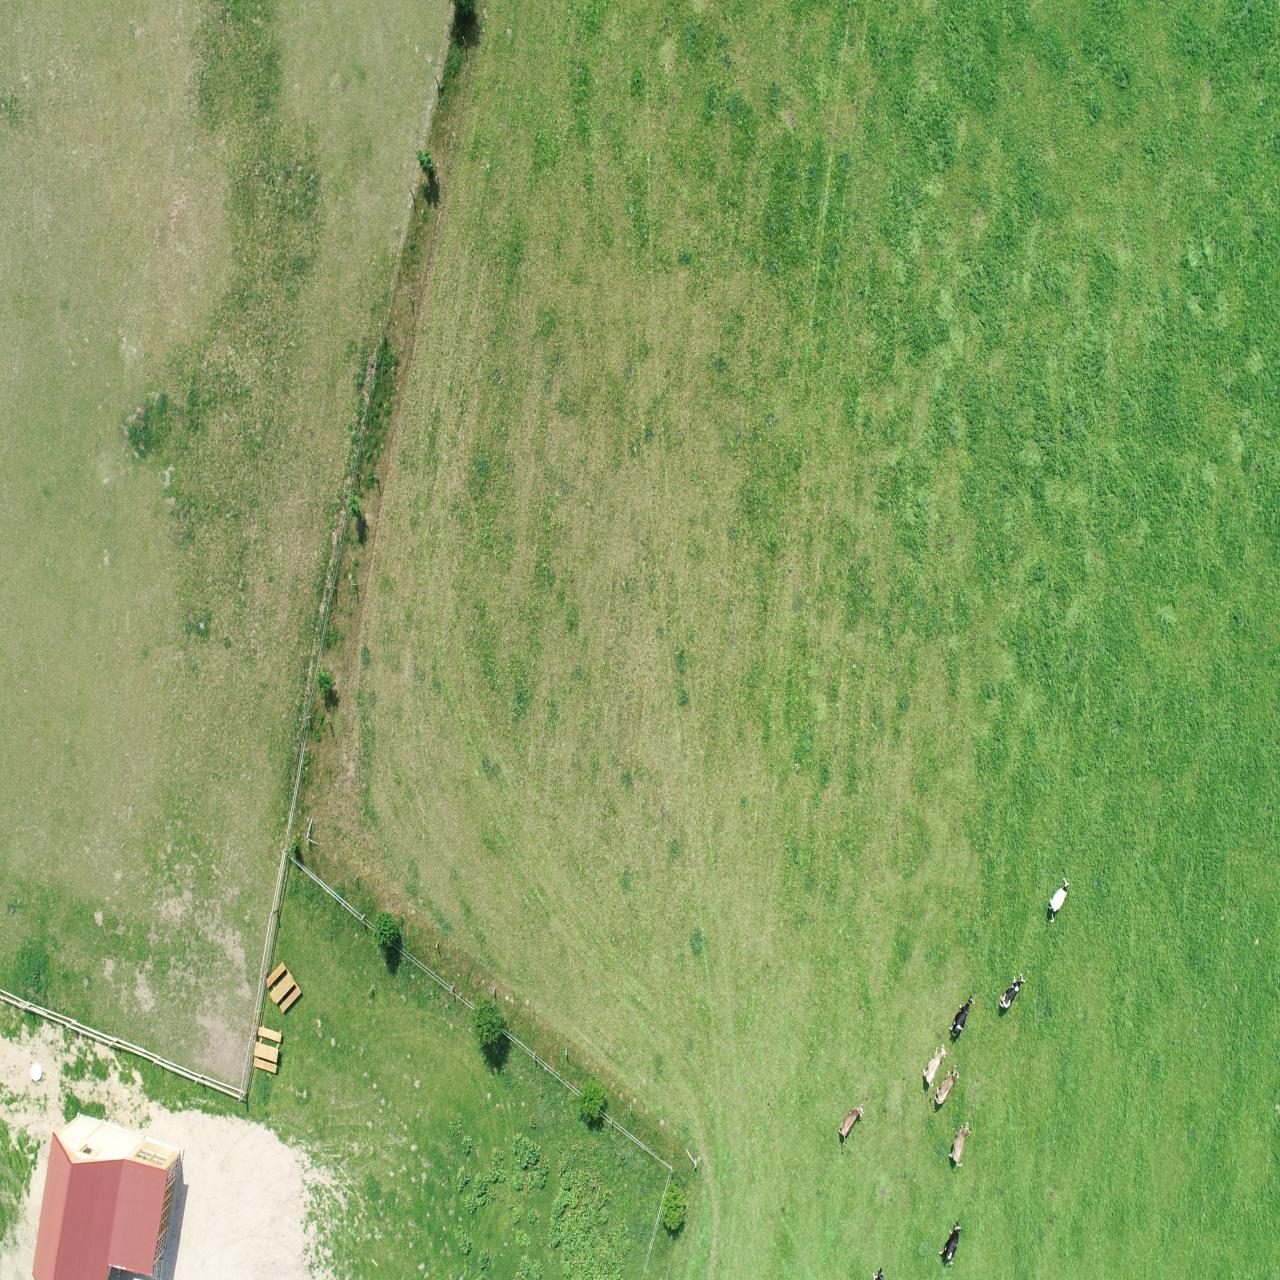cow: (930, 1063, 968, 1105), (937, 1218, 966, 1268), (837, 1102, 867, 1150), (1043, 873, 1071, 925), (996, 969, 1029, 1013), (947, 994, 976, 1042), (946, 1121, 973, 1169), (920, 1043, 947, 1088)
